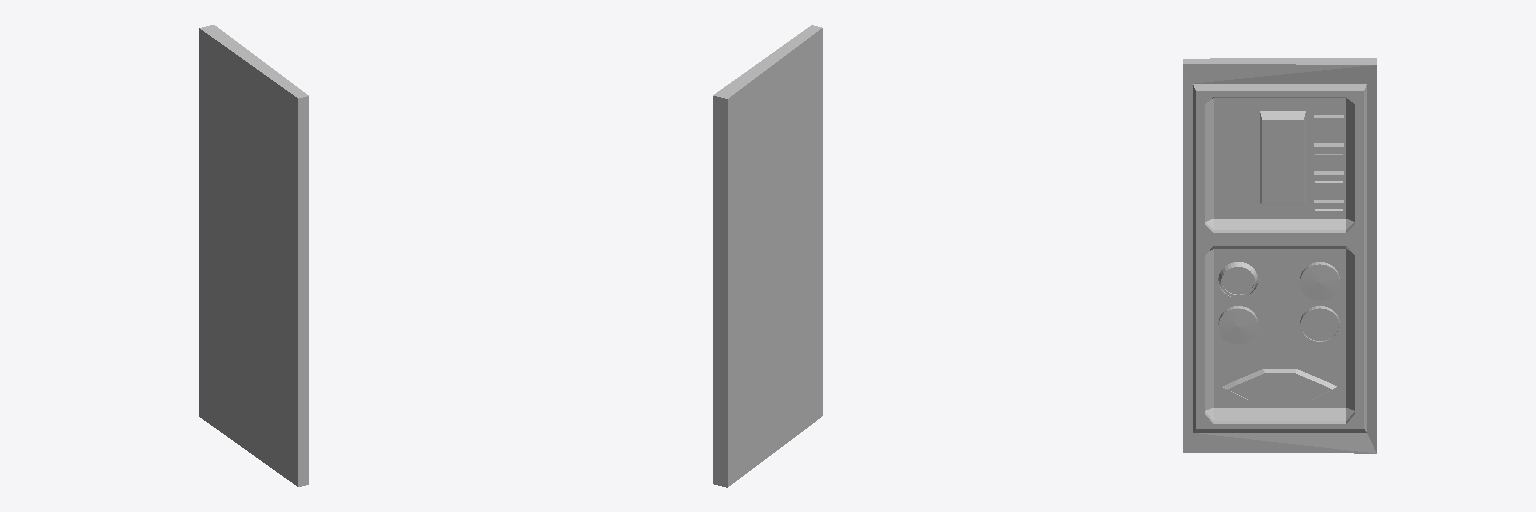
The model's file is panel.obj.
3 renders of one model, left to right at view 1: azimuth 30°, elevation 25°; view 2: azimuth 150°, elevation 25°; view 3: azimuth 270°, elevation 25°, orthographic.
Visible parts, largest first — view 1: Cube.053; view 2: Cube.053; view 3: Cube.053.
Boxes of the visible parts, x1,y1,x2,y2 form: Cube.053: [199, 25, 308, 486]; Cube.053: [713, 25, 822, 487]; Cube.053: [1183, 58, 1376, 453].
Bounding box in the file's own units: 0.2221 × 5.05 × 2.28.